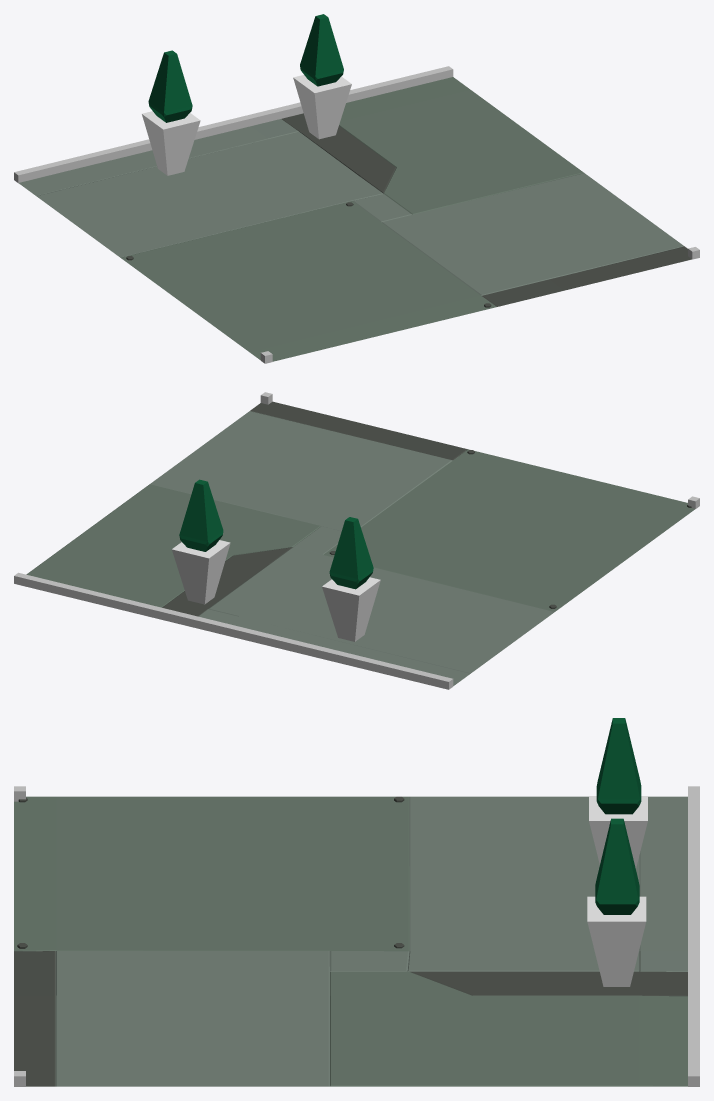
3 renders of one model, top to bottom at view 1: azimuth 30°, elevation 25°; view 2: azimuth 150°, elevation 25°; view 3: azimuth 270°, elevation 25°, orthographic. The views are drawn at different scales.
Visible parts, largest first — view 1: Scifi_Panel_04_Plaza014_group4.041_Scifi_Panel_04_Plaza014_group, base_singlePot01.029_base_singlePot01.033, base_singlePot01.028_base_singlePot01.032, Cube.1140_Cube.1269; view 2: Scifi_Panel_04_Plaza014_group4.041_Scifi_Panel_04_Plaza014_group, Cube.1140_Cube.1269, base_singlePot01.029_base_singlePot01.033, base_singlePot01.028_base_singlePot01.032; view 3: Scifi_Panel_04_Plaza014_group4.041_Scifi_Panel_04_Plaza014_group, base_singlePot01.028_base_singlePot01.032, base_singlePot01.029_base_singlePot01.033, Cube.1140_Cube.1269.
Part boxes in pixels (x1,y1,x2,y2): Scifi_Panel_04_Plaza014_group4.041_Scifi_Panel_04_Plaza014_group: [18, 77, 691, 361]; base_singlePot01.029_base_singlePot01.033: [142, 50, 200, 175]; base_singlePot01.028_base_singlePot01.032: [293, 14, 351, 139]; Cube.1140_Cube.1269: [14, 66, 453, 182]; Scifi_Panel_04_Plaza014_group4.041_Scifi_Panel_04_Plaza014_group: [26, 401, 695, 685]; Cube.1140_Cube.1269: [14, 572, 453, 689]; base_singlePot01.029_base_singlePot01.033: [322, 517, 380, 641]; base_singlePot01.028_base_singlePot01.032: [172, 479, 230, 604]; Scifi_Panel_04_Plaza014_group4.041_Scifi_Panel_04_Plaza014_group: [14, 796, 687, 1086]; base_singlePot01.028_base_singlePot01.032: [587, 818, 646, 986]; base_singlePot01.029_base_singlePot01.033: [589, 718, 647, 868]; Cube.1140_Cube.1269: [688, 786, 699, 1086].
Size of the model in its own units: 10 by 2.59 by 10.
